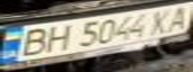0: (96, 16, 121, 45)
4: (127, 11, 154, 40), (115, 12, 136, 43)
5: (75, 18, 103, 48)
A: (160, 2, 193, 32)
B: (12, 25, 54, 57)
H: (39, 23, 75, 53)
I: (145, 7, 178, 35)
